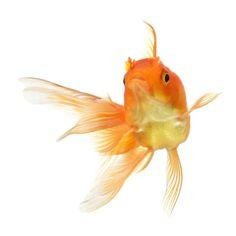goldfish: (54, 44, 218, 187)
